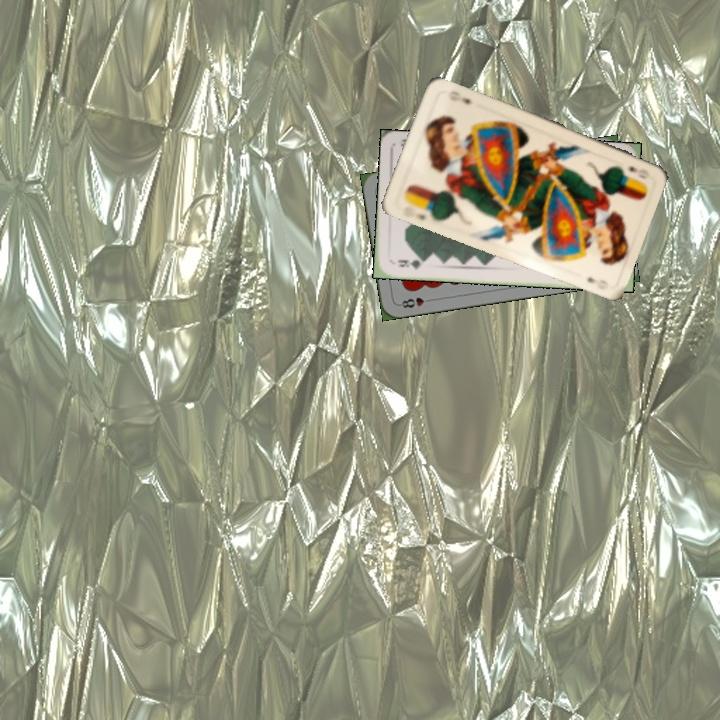EO: (399, 202, 435, 223), (624, 162, 652, 181)
G9: (393, 255, 428, 272)
H8: (395, 293, 435, 310)
